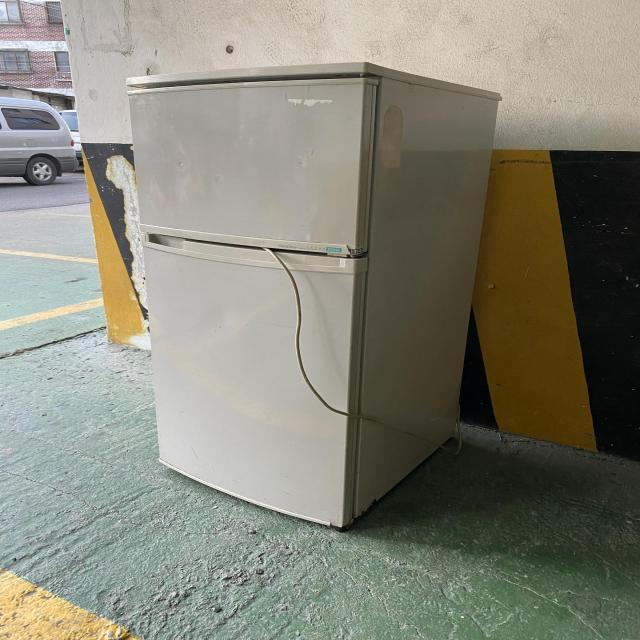refrigerator: (126, 60, 506, 530)
